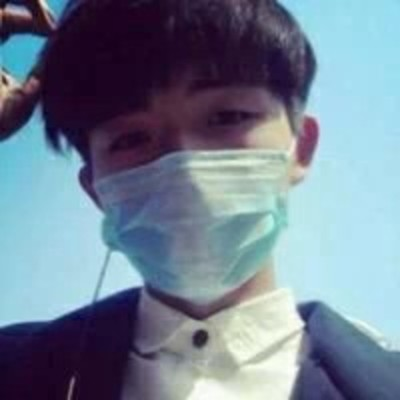yes_mask: (45, 2, 326, 303)
